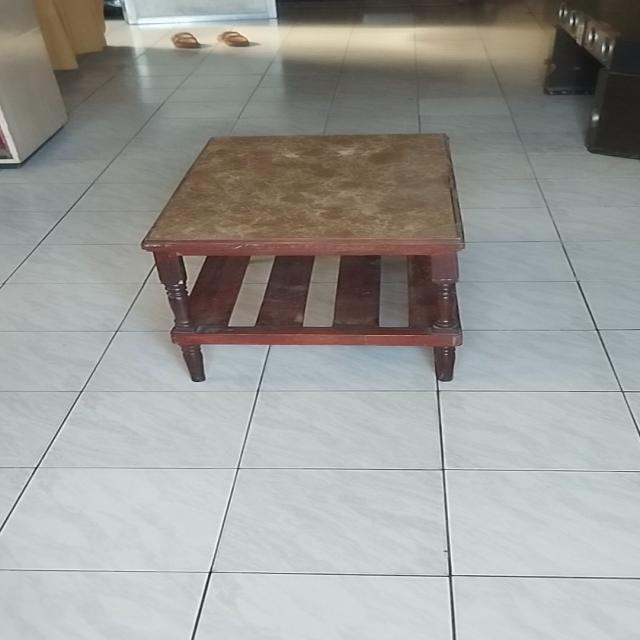table: (135, 130, 472, 384)
